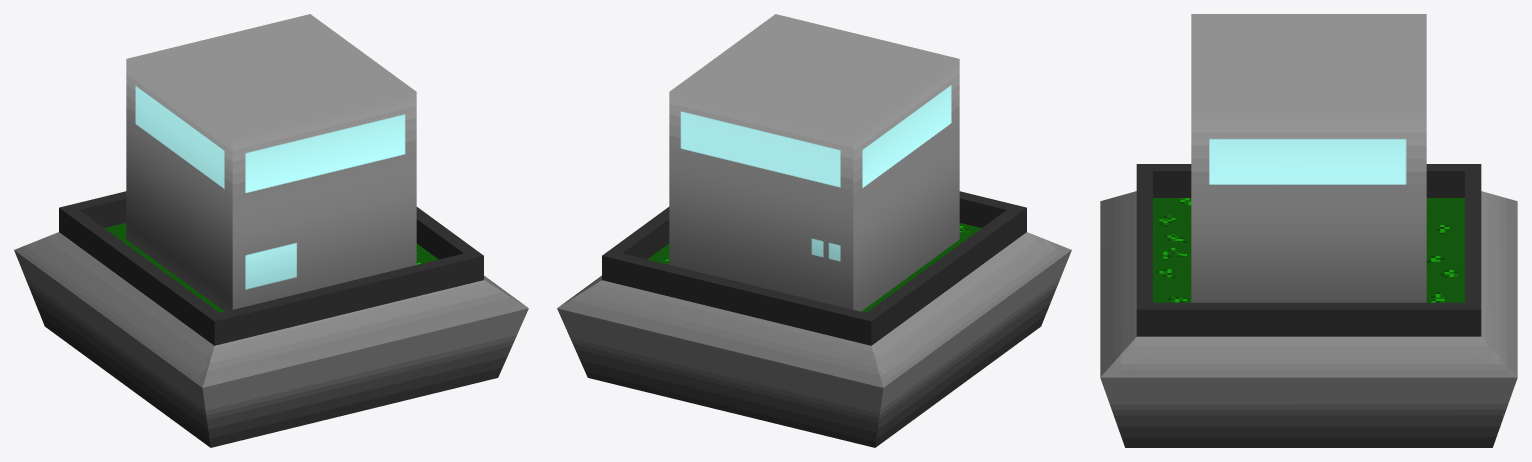
File: TowerUnder.fbx
3 views of the same model, side by side, from view 1: azimuth 30°, elevation 25°; view 2: azimuth 150°, elevation 25°; view 3: azimuth 270°, elevation 25° (orthographic). The views are drawn at different scales.
Visible parts, largest first — view 1: pCube1; view 2: pCube1; view 3: pCube1.
Boxes of the visible parts, x1,y1,x2,y2 form: pCube1: (14, 14, 528, 447); pCube1: (557, 14, 1071, 447); pCube1: (1100, 14, 1517, 447).
Size of the model in its own units: 8 by 6.48 by 8.
Materials: 1 (1 with a texture image).
